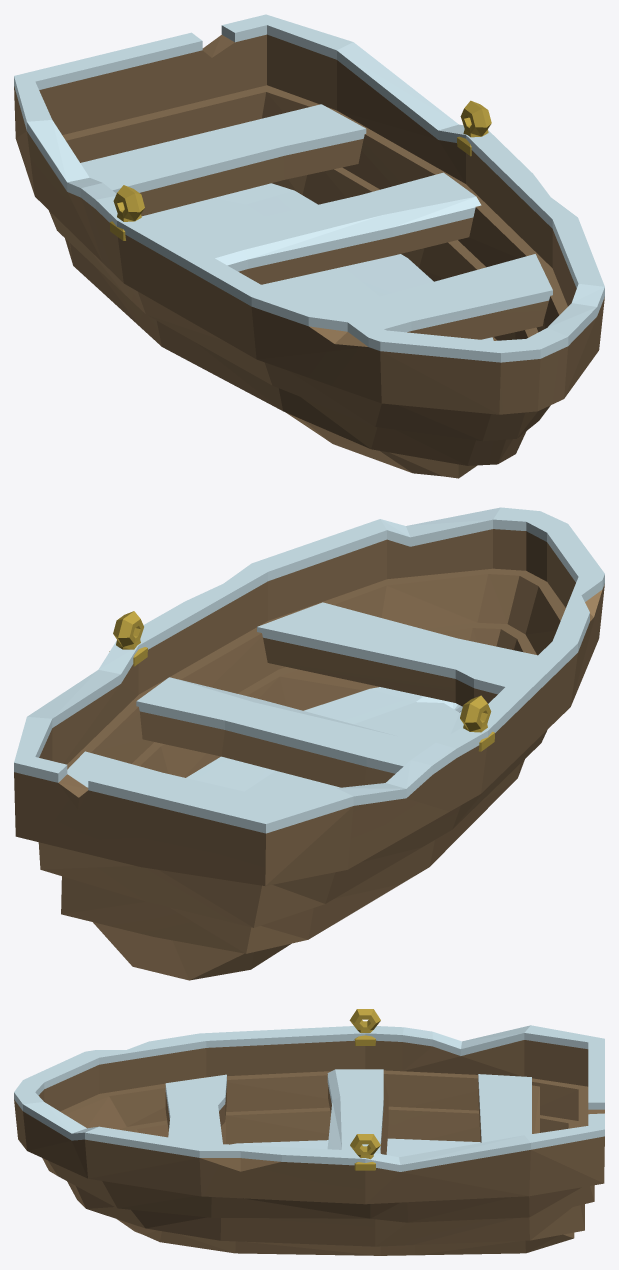
The model's file is SM_Prp_Rowboat_01_Snow.gltf.
3 renders of one model, top to bottom at view 1: azimuth 30°, elevation 25°; view 2: azimuth 150°, elevation 25°; view 3: azimuth 270°, elevation 25°, orthographic. The views are drawn at different scales.
Visible parts, largest first — view 1: SM_Prp_Rowboat_01_Snow; view 2: SM_Prp_Rowboat_01_Snow; view 3: SM_Prp_Rowboat_01_Snow.
Boxes of the visible parts, left/top/right/bottom form: SM_Prp_Rowboat_01_Snow: left=14, top=14, right=604, bottom=478; SM_Prp_Rowboat_01_Snow: left=14, top=507, right=604, bottom=980; SM_Prp_Rowboat_01_Snow: left=14, top=1009, right=604, bottom=1255.
Size of the model in its own units: 2.24 by 1.26 by 4.18.
1 material, 1 textured.
